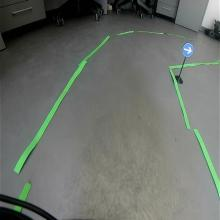right: (182, 43, 194, 57)
